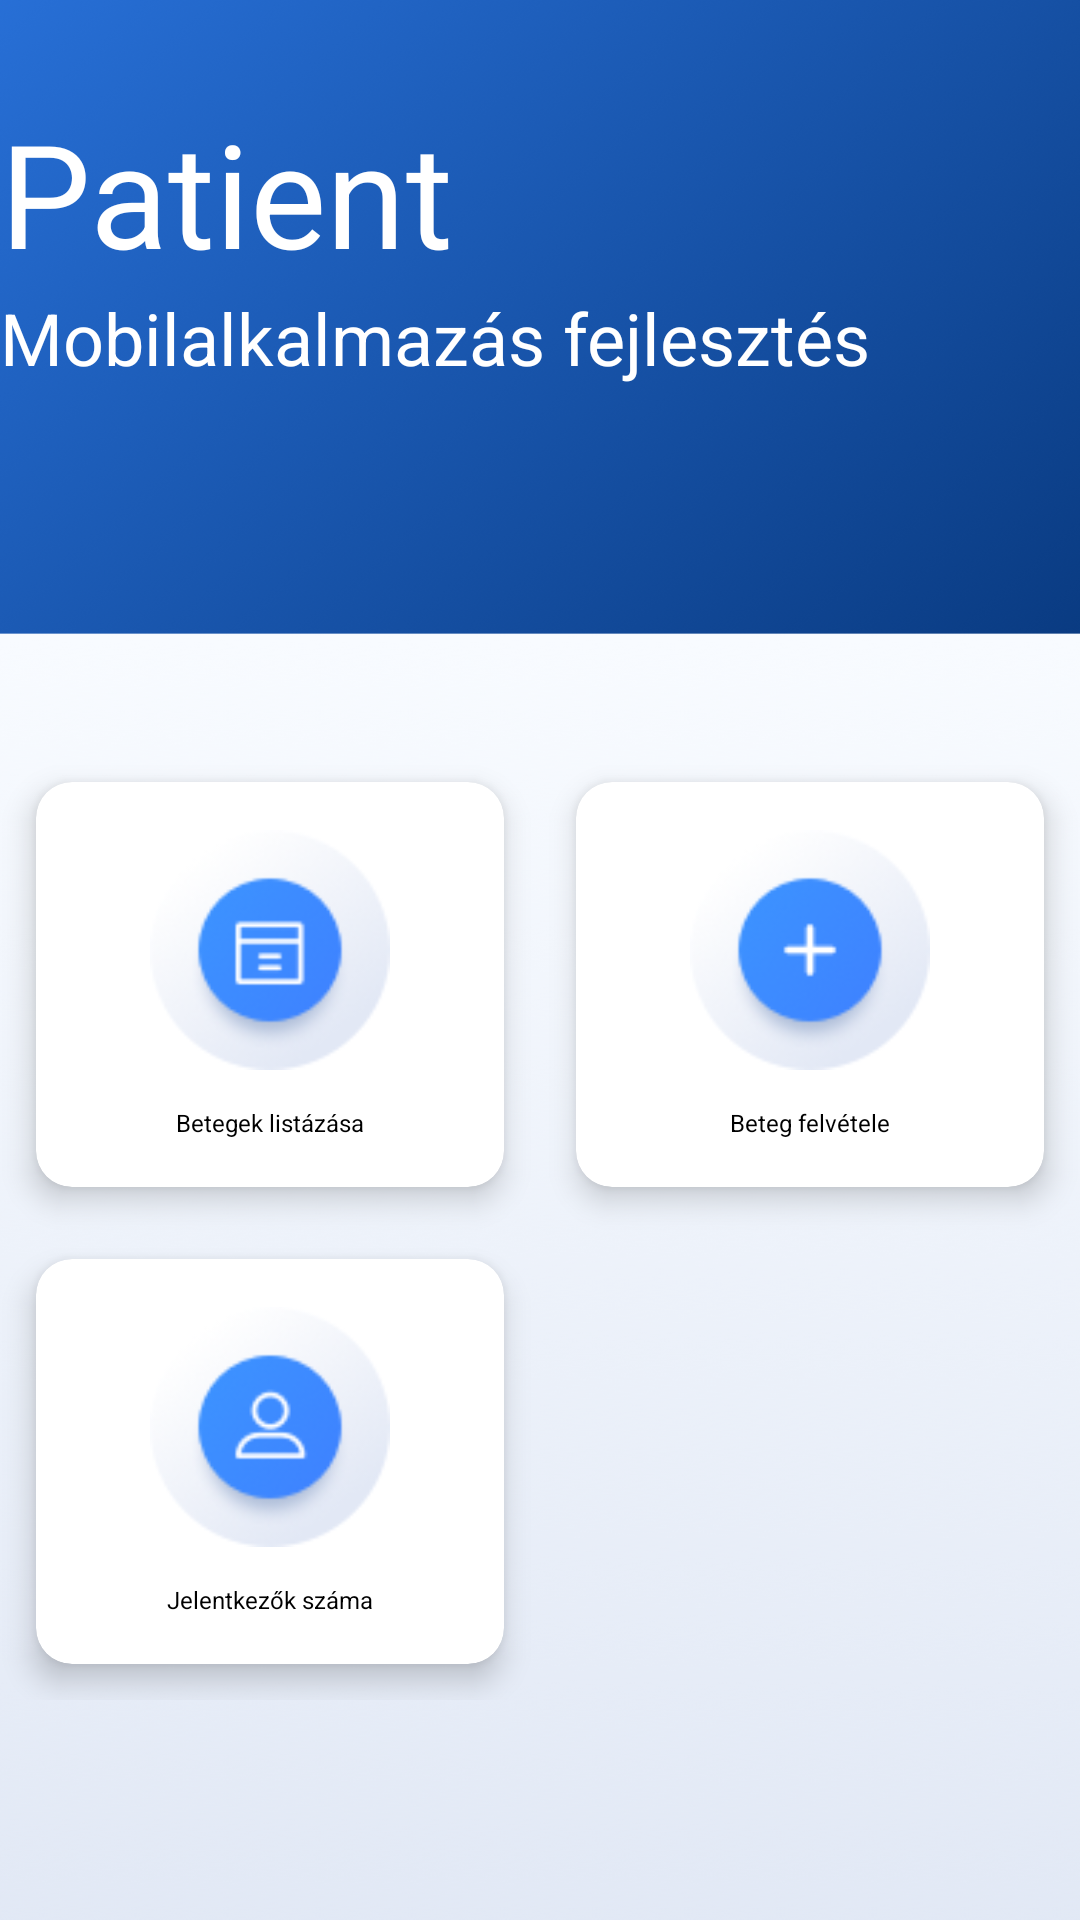

Where icons sit on this 1080px×1920px app screen, as (x1, y1, x2, y2):
person: (197, 1354, 387, 1547)
